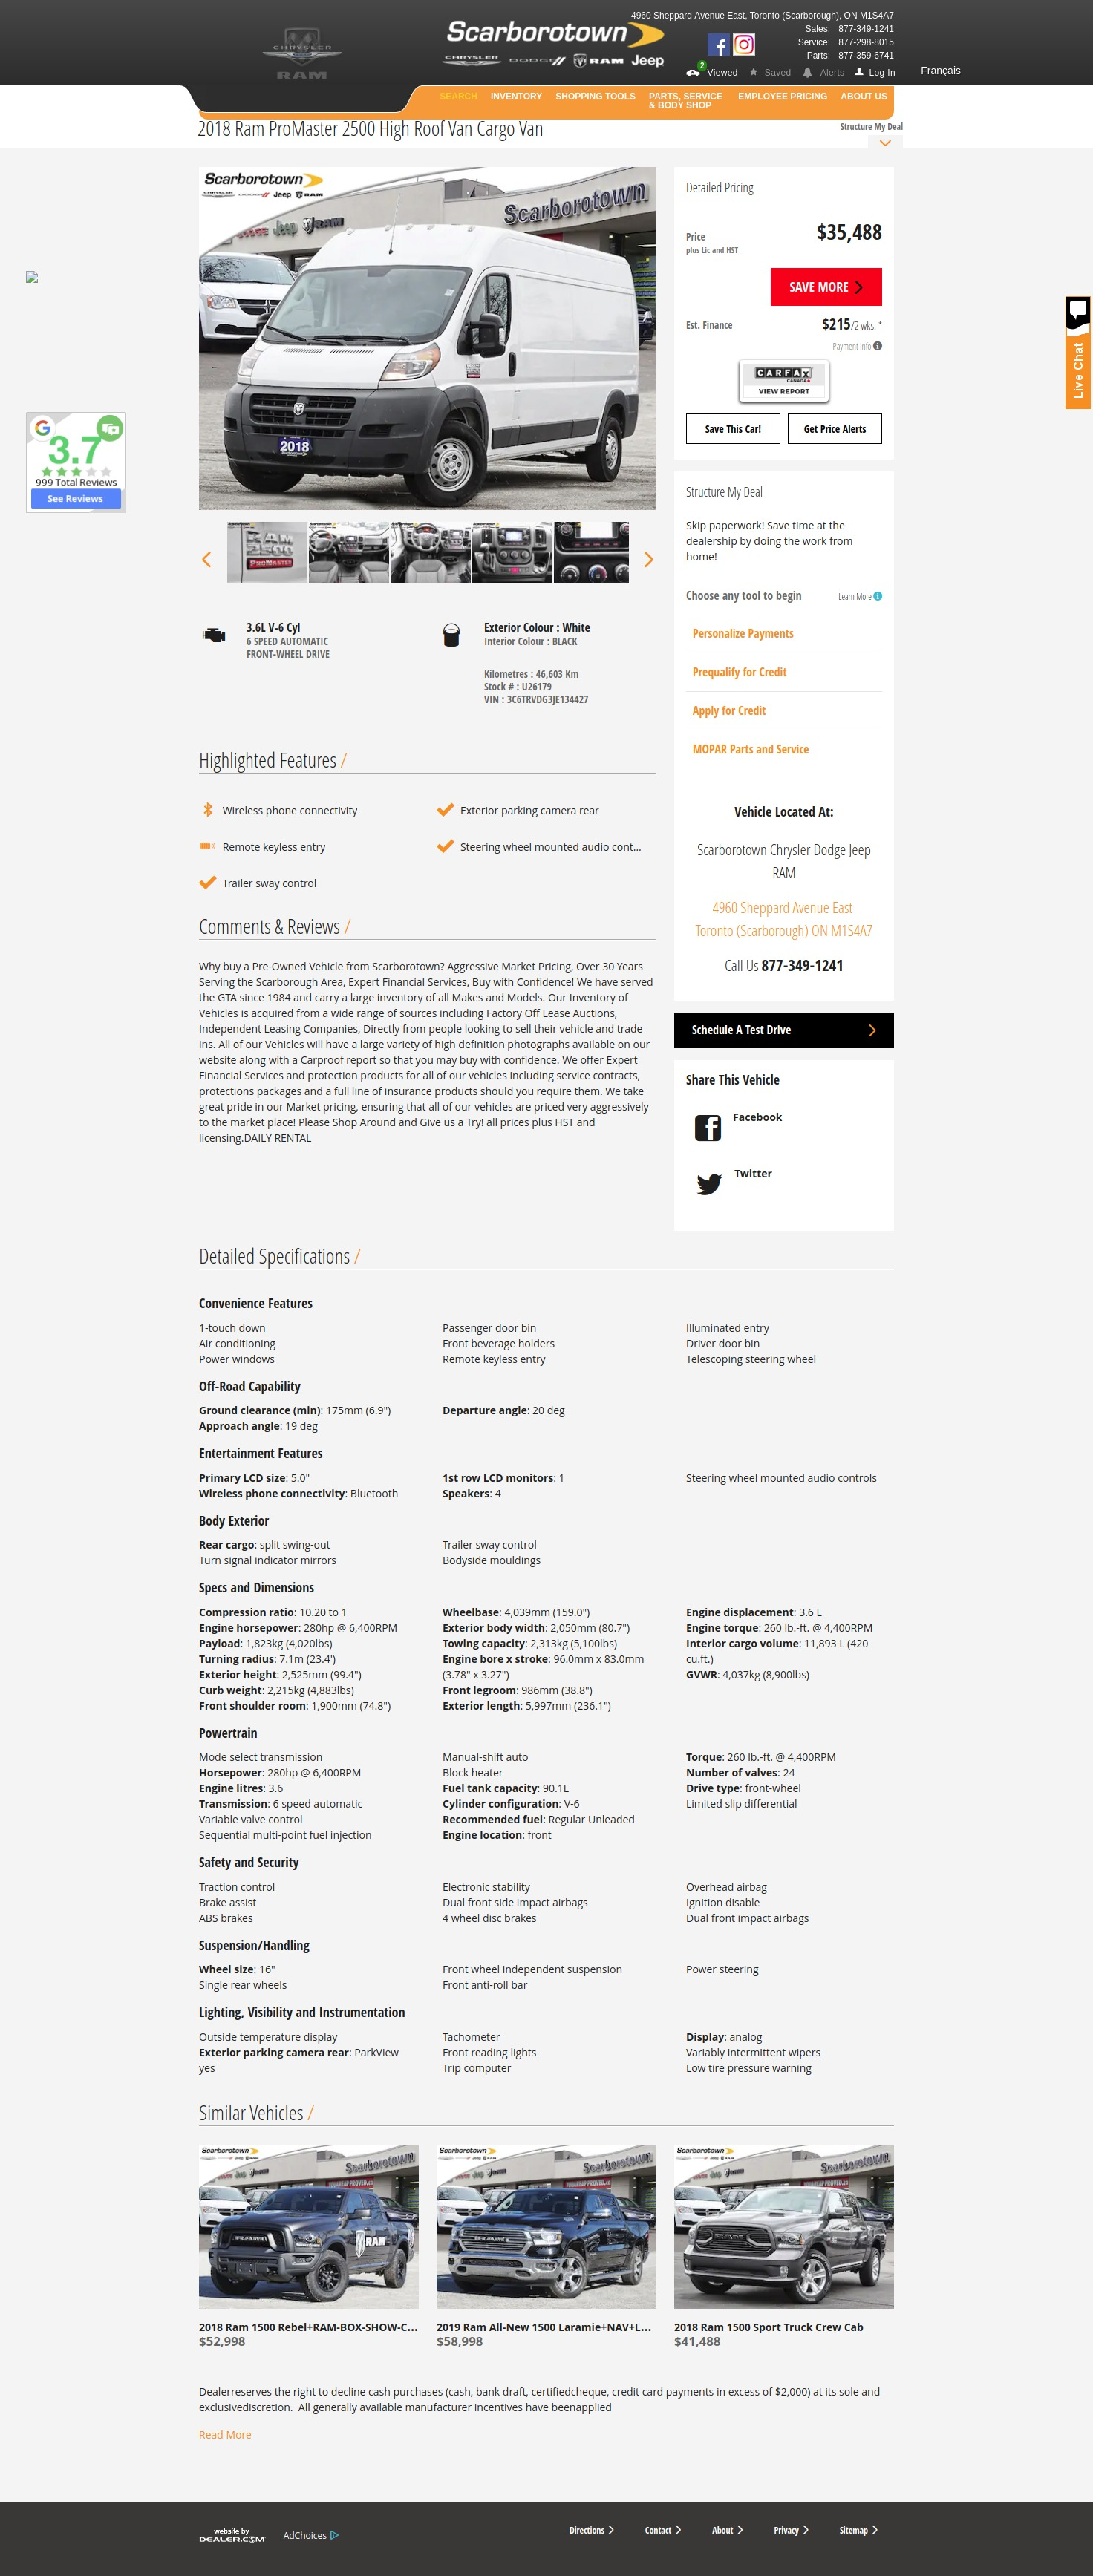car: (644, 552, 654, 568)
